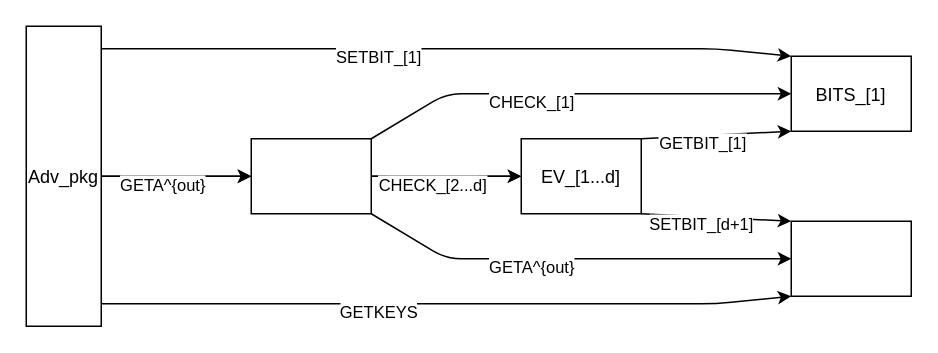
Image size: 938x353. Some labels were removed from this diagram. Each missing label, with the centre of its shape:
"KEYS_[d+1]" belongs at (x=850, y=258).
"SIM_{yao}" belongs at (x=310, y=175).
